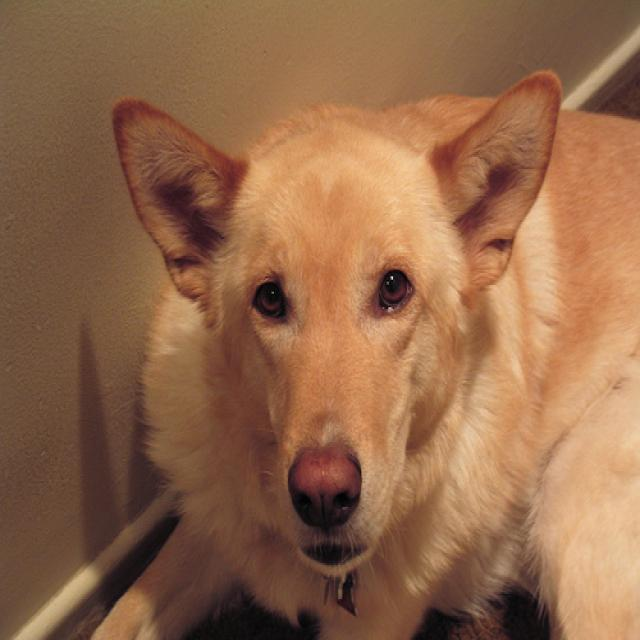dog: (91, 68, 640, 639)
